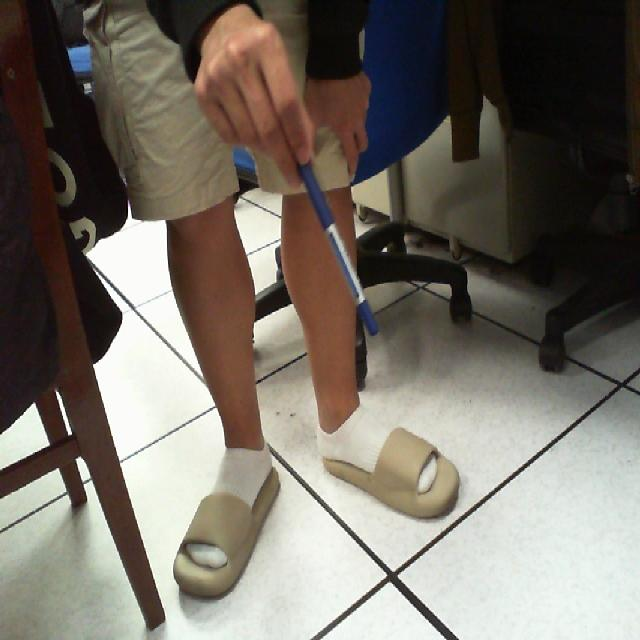Pen: (287, 152, 392, 356)
